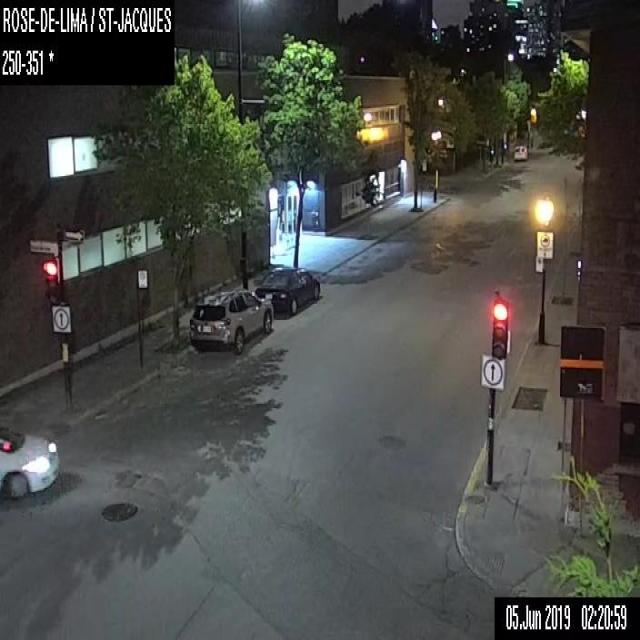vehicle: (186, 288, 272, 353), (0, 421, 58, 500), (258, 268, 319, 315), (511, 143, 528, 160)
